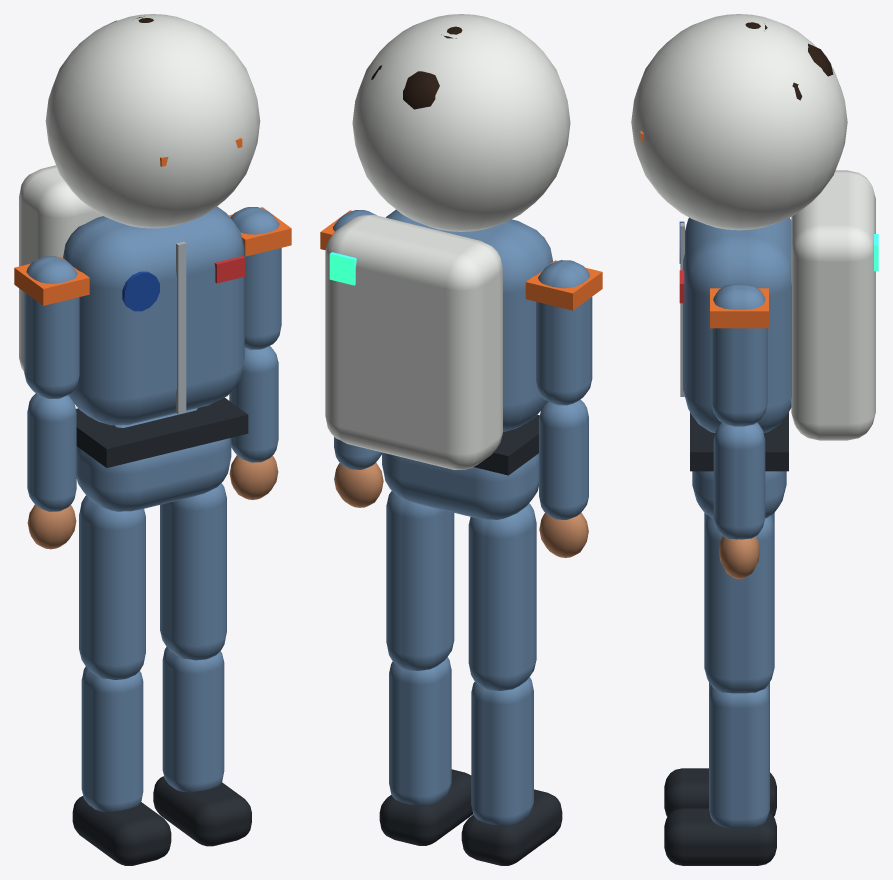
File: crew-member.glb
3 renders of one model, left to right at view 1: azimuth 30°, elevation 25°; view 2: azimuth 150°, elevation 25°; view 3: azimuth 270°, elevation 25°, orthographic.
Visible parts, largest first — view 1: helmet-hull-white, torso-crew-suit, leg_l-crew-suit, leg_r-crew-suit, arm_l-crew-suit, arm_r-crew-suit, hips-crew-suit, hips-dark-polymer, pack-hull-white, leg_l-dark-polymer, leg_r-dark-polymer, torso-aluminium (+6 smaller); view 2: pack-hull-white, helmet-hull-white, leg_l-crew-suit, leg_r-crew-suit, arm_l-crew-suit, torso-crew-suit, hips-crew-suit, leg_l-dark-polymer, leg_r-dark-polymer, hips-dark-polymer, arm_l-safety-orange, arm_r-crew-skin (+4 smaller); view 3: helmet-hull-white, pack-hull-white, leg_r-crew-suit, torso-crew-suit, arm_r-crew-suit, leg_r-dark-polymer, hips-dark-polymer, leg_l-dark-polymer, hips-crew-suit, arm_r-safety-orange, arm_r-crew-skin, torso-aluminium.
Boxes of the visible parts, x1,y1,x2,y2 form: helmet-hull-white: [45, 14, 260, 228]; torso-crew-suit: [63, 206, 244, 425]; leg_l-crew-suit: [79, 495, 145, 811]; leg_r-crew-suit: [160, 483, 226, 792]; arm_l-crew-suit: [24, 256, 79, 511]; arm_r-crew-suit: [229, 207, 281, 462]; hips-crew-suit: [76, 408, 231, 511]; hips-dark-polymer: [76, 397, 248, 467]; pack-hull-white: [19, 165, 102, 371]; leg_l-dark-polymer: [72, 796, 171, 865]; leg_r-dark-polymer: [153, 776, 251, 846]; torso-aluminium: [176, 241, 186, 414]; pack-hull-white: [325, 215, 502, 469]; helmet-hull-white: [352, 14, 570, 231]; leg_l-crew-suit: [468, 503, 536, 825]; leg_r-crew-suit: [386, 491, 454, 805]; arm_l-crew-suit: [536, 260, 592, 519]; torso-crew-suit: [386, 209, 553, 431]; hips-crew-suit: [382, 452, 538, 519]; leg_l-dark-polymer: [461, 789, 562, 865]; leg_r-dark-polymer: [379, 769, 472, 845]; hips-dark-polymer: [474, 415, 539, 475]; arm_l-safety-orange: [525, 260, 602, 310]; arm_r-crew-skin: [334, 462, 383, 507]; helmet-hull-white: [631, 14, 847, 230]; pack-hull-white: [791, 170, 875, 440]; leg_r-crew-suit: [704, 516, 774, 828]; torso-crew-suit: [683, 217, 791, 432]; arm_r-crew-suit: [711, 283, 767, 539]; leg_r-dark-polymer: [664, 808, 776, 865]; hips-dark-polymer: [690, 412, 788, 471]; leg_l-dark-polymer: [664, 768, 776, 816]; hips-crew-suit: [692, 471, 786, 518]; arm_r-safety-orange: [710, 288, 768, 328]; arm_r-crew-skin: [718, 536, 759, 579]; torso-aluminium: [680, 222, 684, 396].
Size of the model in its own units: 0.615 by 1.91 by 0.526.
